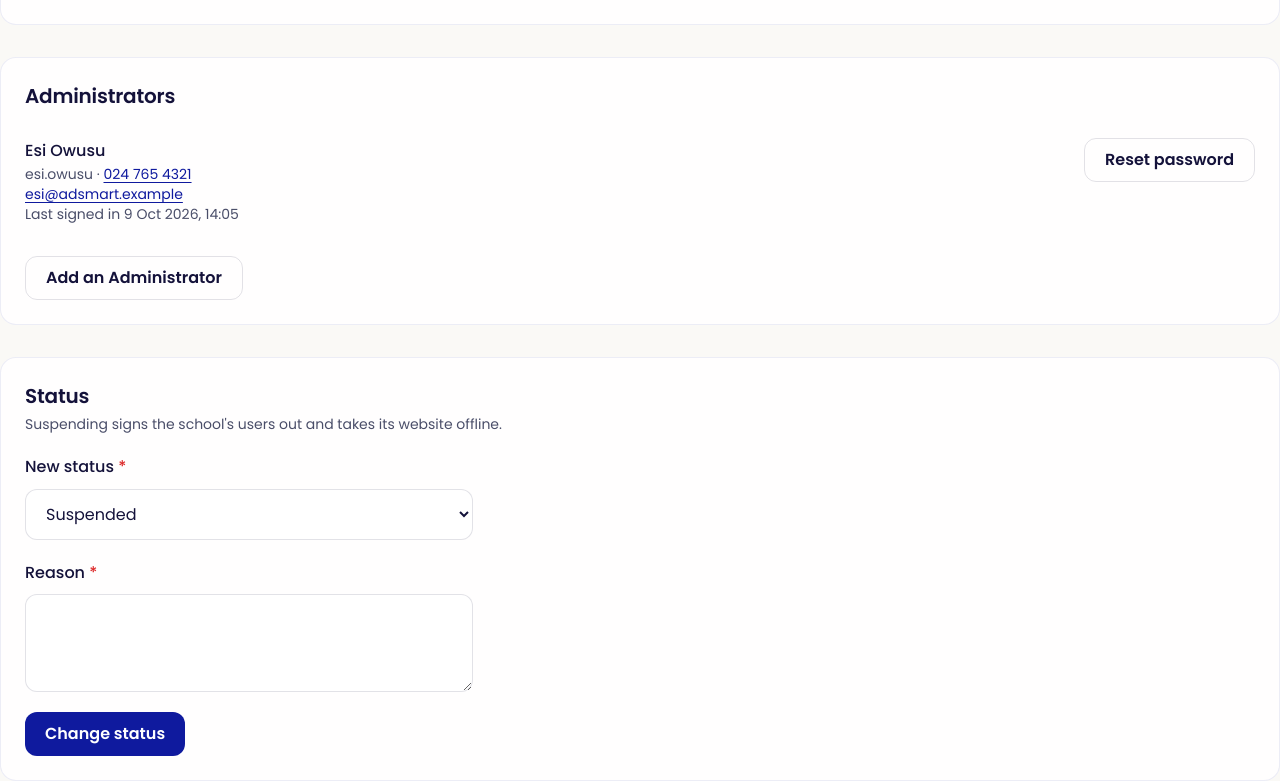
Test: a school's page › needs a reason to change the school's status
(page scrolled)
Click the button "Change status" at {"x": 105, "y": 734}, box [25,712,185,756]
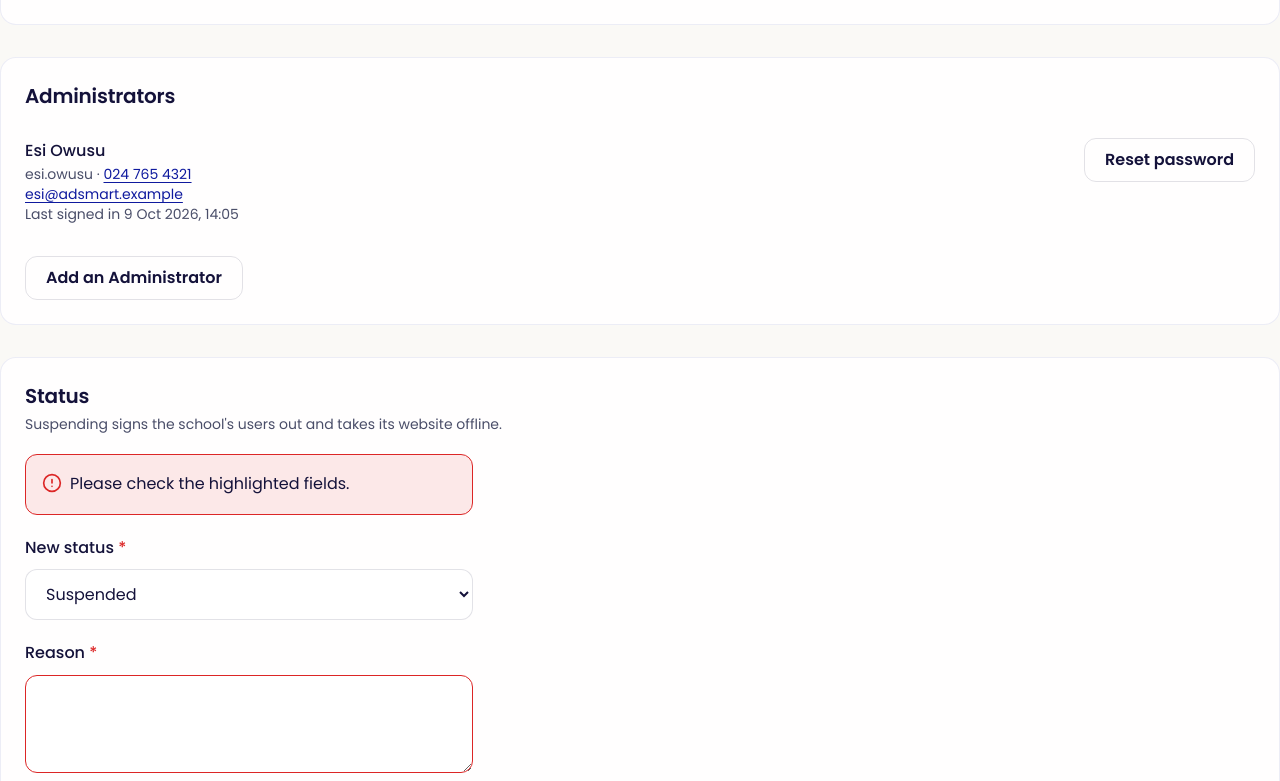
Type "Asked to pause" into the text box labelled "Reason *" at {"x": 249, "y": 724}, box [25,674,473,772]
(page scrolled)
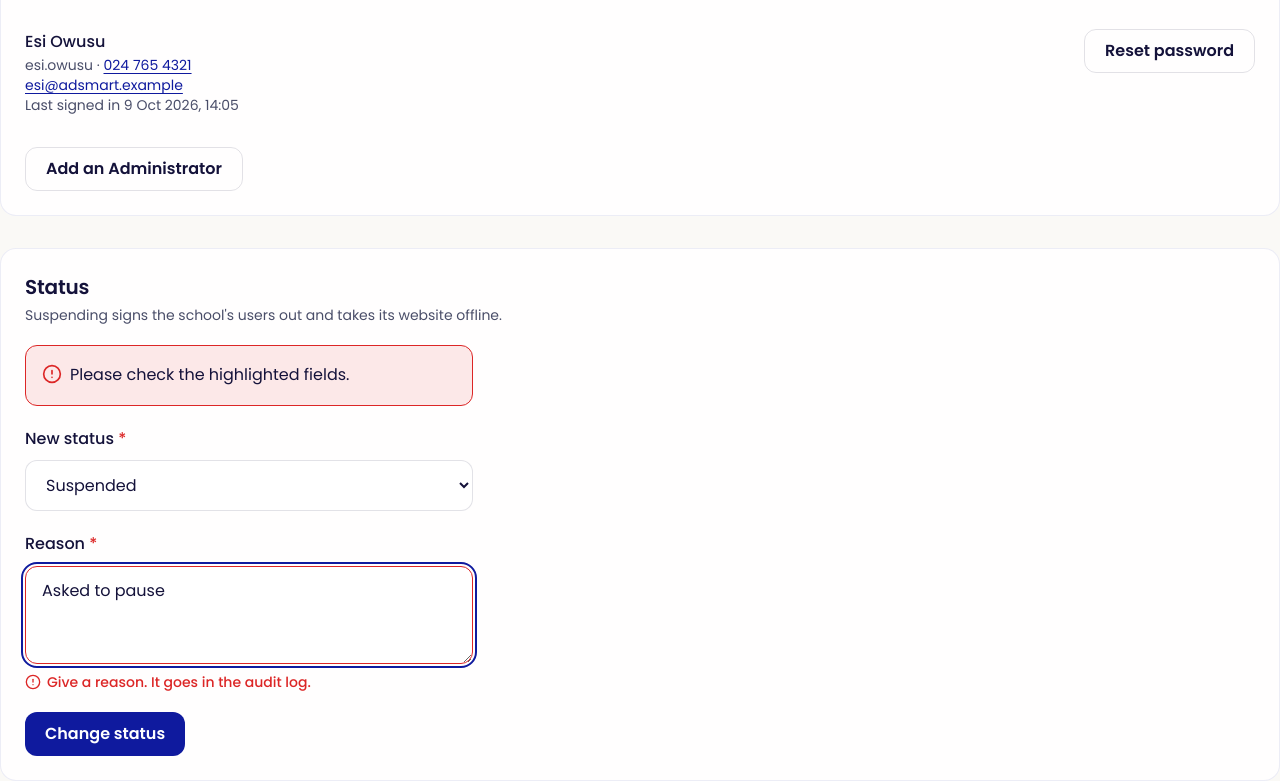
Click the button "Change status" at {"x": 105, "y": 734}, box [25,712,185,756]
(page scrolled)
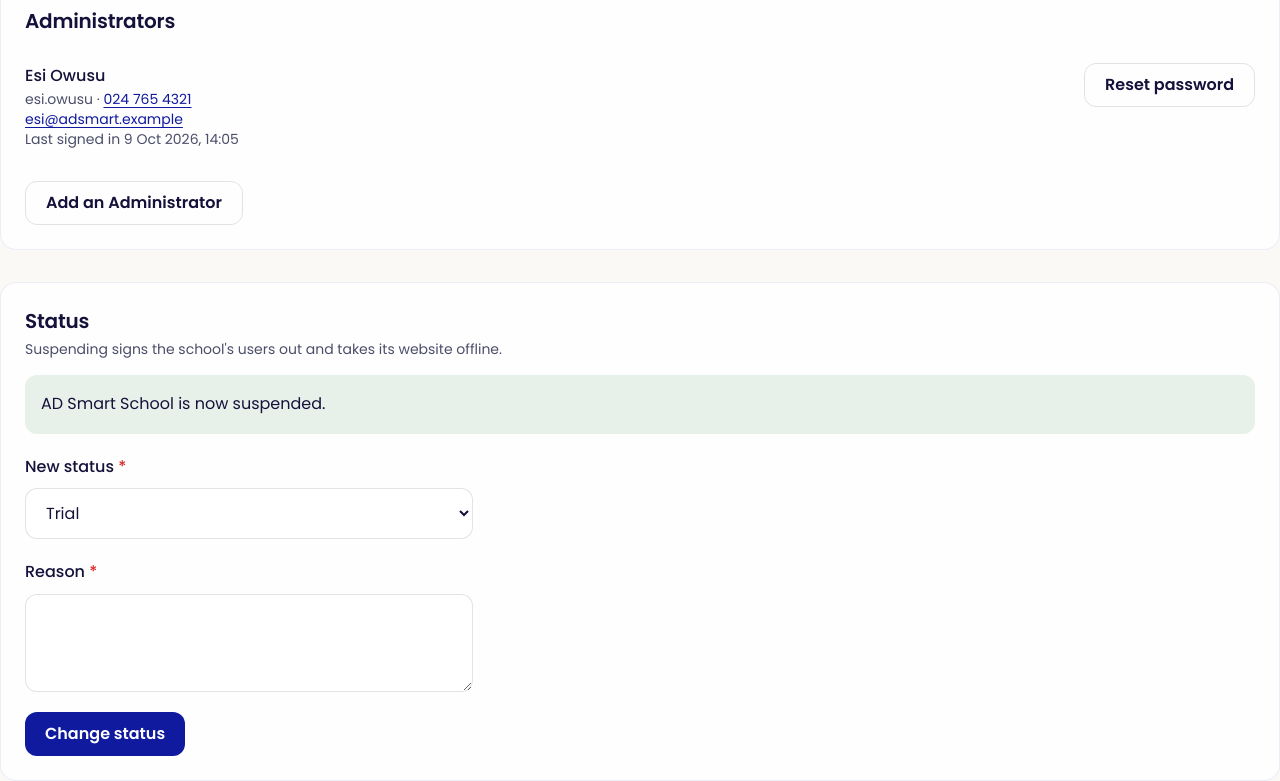
Check: the text "AD Smart School is now suspended." is shown, box [25,375,1255,434]
